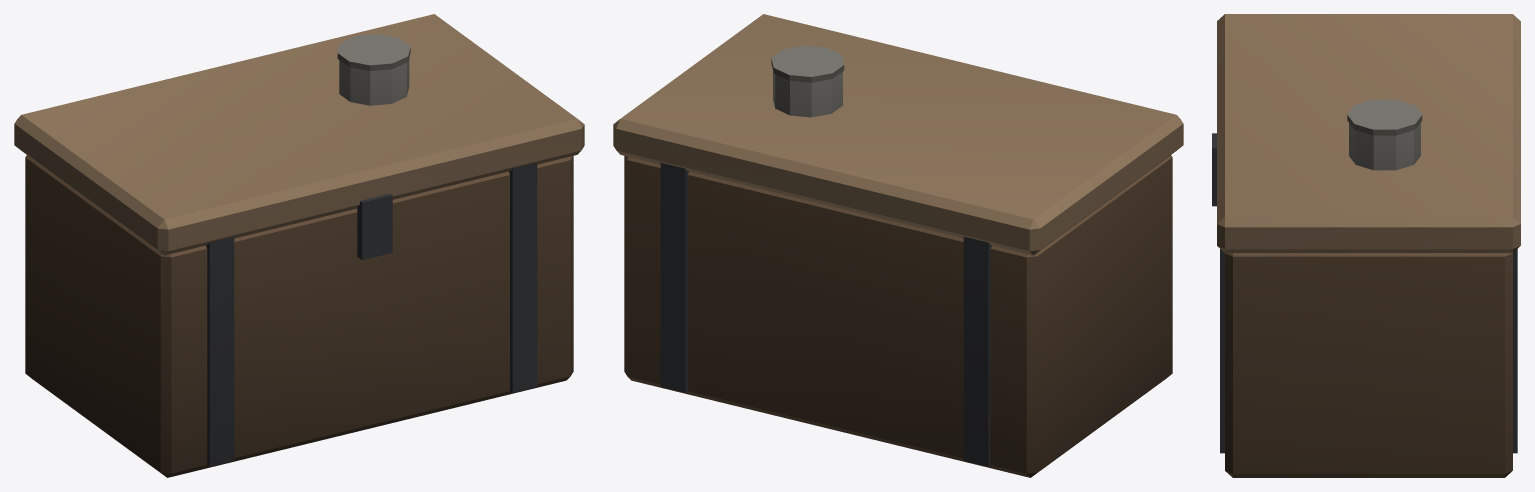
File: ph_prop_apprentice_box.glb
3 renders of one model, left to right at view 1: azimuth 30°, elevation 25°; view 2: azimuth 150°, elevation 25°; view 3: azimuth 270°, elevation 25°, orthographic.
Visible parts, largest first — view 1: ph_prop_apprentice_box; view 2: ph_prop_apprentice_box; view 3: ph_prop_apprentice_box.
Part boxes in pixels (x1,y1,x2,y2): ph_prop_apprentice_box: (14, 14, 584, 477); ph_prop_apprentice_box: (613, 14, 1183, 477); ph_prop_apprentice_box: (1212, 14, 1520, 477).
Bounding box in the file's own units: 0.62 × 0.422 × 0.386.
